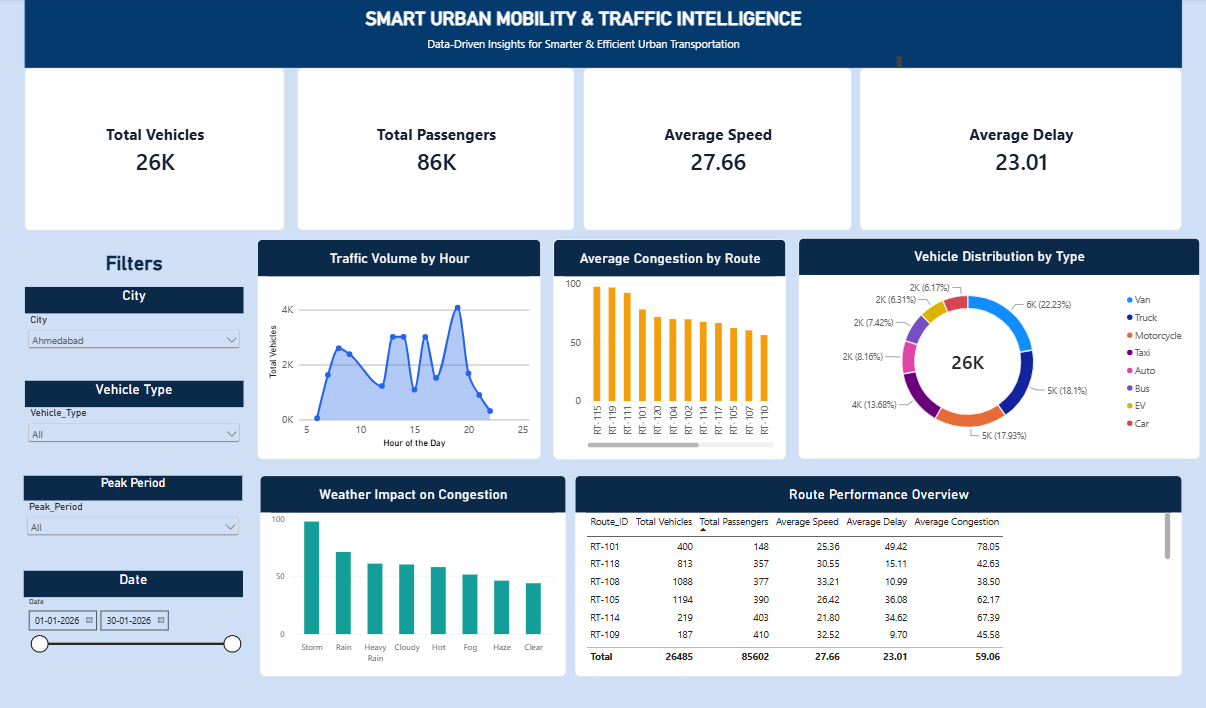

The page's visual inventory and layout, read from the dashboard file:
{"tool":"powerbi","page":{"name":"Page 1","canvas":[1920,1080],"ordinal":0},"visuals":[{"type":"shape","box":[138,0,1704.3,103.1],"z":0},{"type":"cardVisual","fields":{"Data":["FactMobilityTable.Total Vehicles"]},"box":[138,103.1,382.8,239.3],"z":1000},{"type":"cardVisual","title":"Total Passengers","fields":{"Data":["FactMobilityTable.Total Passengers"]},"box":[539.3,103.1,408.6,239.3],"z":2000},{"type":"cardVisual","title":"Average Speed","fields":{"Data":["FactMobilityTable.Average Speed"]},"box":[960.7,103.1,395.7,239.3],"z":3000},{"type":"cardVisual","title":"Average Delay","fields":{"Data":["FactMobilityTable.Average Delay"]},"box":[1367.5,103.1,474.8,239.3],"z":4000},{"type":"textbox","box":[9.2,0,281.6,29.4],"z":5000},{"type":"textbox","title":" SMART URBAN MOBILITY & TRAFFIC INTELLIGENCE","box":[491.4,14.7,938.7,88.3],"z":6000},{"type":"slicer","title":"City","fields":{"Values":["Dim_Location.City"]},"box":[137.7,425.7,322.1,114.1],"z":7000},{"type":"slicer","title":"Vehicle Type","fields":{"Values":["Dim_Vehicle.Vehicle_Type"]},"box":[137.7,563.5,322.1,139.9],"z":8000},{"type":"slicer","title":"Peak Period","fields":{"Values":["FactMobilityTable.Peak_Period"]},"box":[135.7,703.3,322.1,110.4],"z":9000},{"type":"slicer","title":"Date","fields":{"Values":["Dim_Date.Date"]},"box":[135.7,843.1,323.5,156.5],"z":10000},{"type":"lineChart","title":"Traffic Volume by Hour","fields":{"Category":["FactMobilityTable.Hour"],"Y":["FactMobilityTable.Total Vehicles"]},"box":[480.4,355.2,417.8,323.9],"z":11000},{"type":"clusteredColumnChart","title":"Average Congestion by Route","fields":{"Category":["Dim_Route.Route_ID"],"Y":["FactMobilityTable.Average Congestion"]},"box":[916.6,355.2,342.3,323.9],"z":12000},{"type":"donutChart","title":"Vehicle Distribution by Type","fields":{"Category":["Dim_Vehicle.Vehicle_Type"],"Y":["FactMobilityTable.Total Vehicles"]},"box":[1277.3,353.4,590.8,325.8],"z":13000},{"type":"tableEx","title":"Route Performance Overview","fields":{"Values":["Dim_Route.Route_ID","FactMobilityTable.Total Vehicles","FactMobilityTable.Total Passengers","FactMobilityTable.Average Speed","FactMobilityTable.Average Delay","FactMobilityTable.Average Congestion"]},"box":[947.9,703.1,894.5,296.3],"z":14000},{"type":"clusteredColumnChart","title":"Weather Impact on Congestion","fields":{"Category":["Dim_Weather.Weather"],"Y":["FactMobilityTable.Average Congestion"]},"box":[484.1,703.1,450.9,296.3],"z":15000},{"type":"textbox","title":"Filters","box":[148.2,373.6,300,104.9],"z":16000}]}

Visuals, with their boxes on the page's 1920x1080 design canvas (x1, y1, x2, y2). These are canvas units, not pixel positions in the 1206x708 screenshot, which may show the page scaled, cropped or inside an application window:
shape: bbox=[138, 0, 1842, 103]
cardVisual - FactMobilityTable.Total Vehicles: bbox=[138, 103, 521, 342]
"Total Passengers" cardVisual: bbox=[539, 103, 948, 342]
"Average Speed" cardVisual: bbox=[961, 103, 1356, 342]
"Average Delay" cardVisual: bbox=[1368, 103, 1842, 342]
textbox: bbox=[9, 0, 291, 29]
" SMART URBAN MOBILITY & TRAFFIC INTELLIGENCE" textbox: bbox=[491, 15, 1430, 103]
"City" slicer: bbox=[138, 426, 460, 540]
"Vehicle Type" slicer: bbox=[138, 564, 460, 703]
"Peak Period" slicer: bbox=[136, 703, 458, 814]
"Date" slicer: bbox=[136, 843, 459, 1000]
"Traffic Volume by Hour" lineChart: bbox=[480, 355, 898, 679]
"Average Congestion by Route" clusteredColumnChart: bbox=[917, 355, 1259, 679]
"Vehicle Distribution by Type" donutChart: bbox=[1277, 353, 1868, 679]
"Route Performance Overview" tableEx: bbox=[948, 703, 1842, 999]
"Weather Impact on Congestion" clusteredColumnChart: bbox=[484, 703, 935, 999]
"Filters" textbox: bbox=[148, 374, 448, 478]
